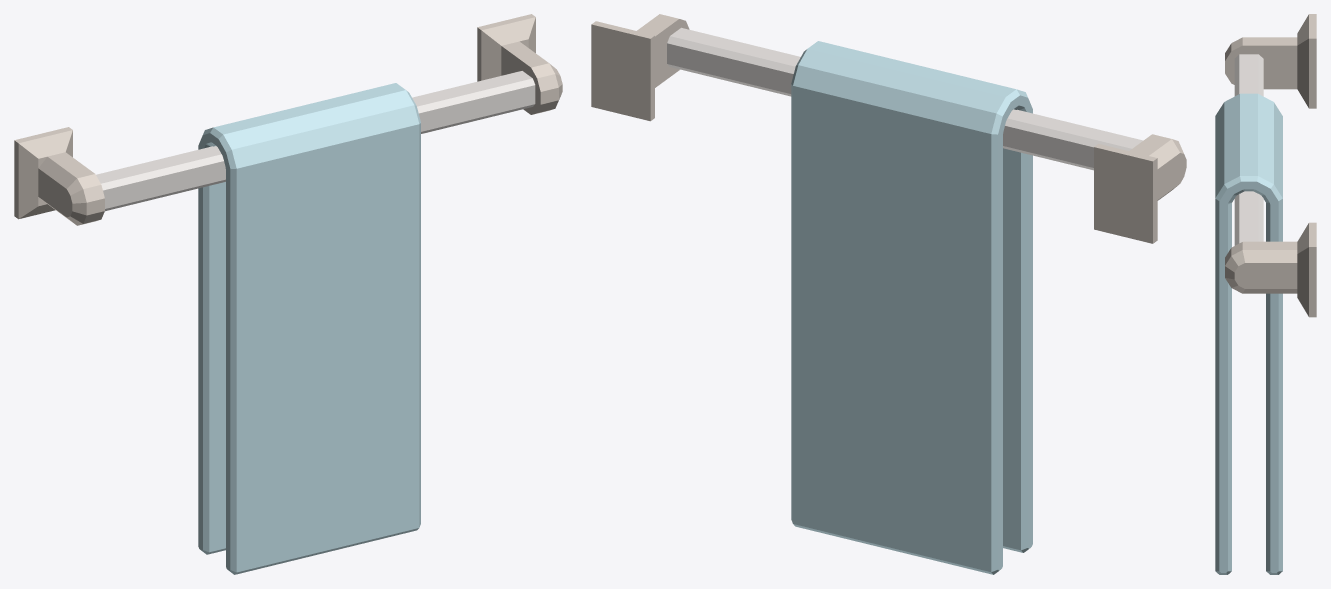
The model's file is Prop_Bathroom_Towel_Rack_Stocked.fbx.
The picture shows the model from 3 angles, left to right: view 1: azimuth 30°, elevation 25°; view 2: azimuth 150°, elevation 25°; view 3: azimuth 270°, elevation 25°; orthographic projection. The views are drawn at different scales.
Parts seen in each view (by area): view 1: object2.003, object1.005; view 2: object2.003, object1.005; view 3: object2.003, object1.005.
Boxes of the visible parts, x1,y1,x2,y2 form: object2.003: [198, 83, 420, 574]; object1.005: [14, 14, 562, 225]; object2.003: [791, 41, 1032, 574]; object1.005: [591, 14, 1186, 243]; object2.003: [1215, 93, 1282, 574]; object1.005: [1225, 14, 1316, 317].
Bounding box in the file's own units: 71.25 × 57.5 × 13.13.
